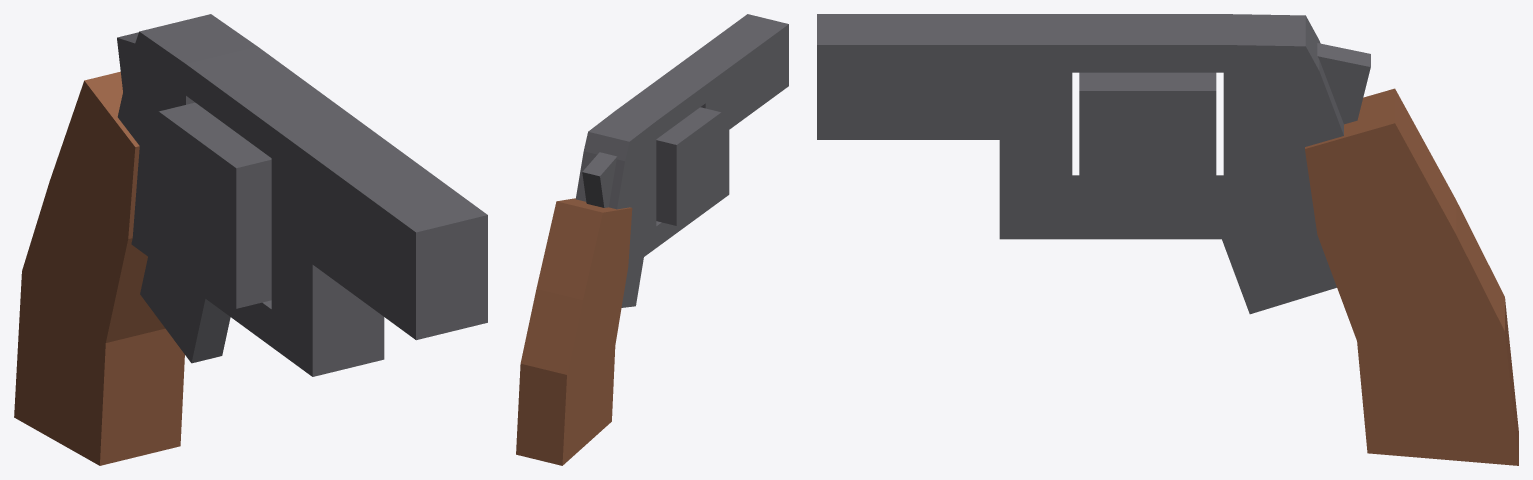
Rendered from Revolver.fbx.
The picture shows the model from 3 angles, left to right: view 1: azimuth 30°, elevation 25°; view 2: azimuth 150°, elevation 25°; view 3: azimuth 270°, elevation 25°; orthographic projection. The views are drawn at different scales.
Visible parts, largest first — view 1: Cube; view 2: Cube; view 3: Cube.
Boxes of the visible parts, x1,y1,x2,y2 form: Cube: [14, 14, 487, 465]; Cube: [516, 14, 788, 465]; Cube: [817, 14, 1518, 465].
Bounding box in the file's own units: 20.69 × 69.87 × 106.
